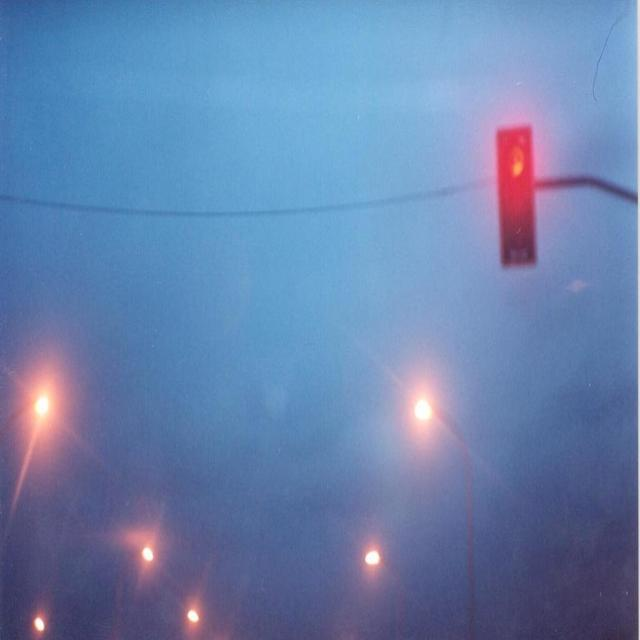traffic light: (495, 122, 537, 268)
